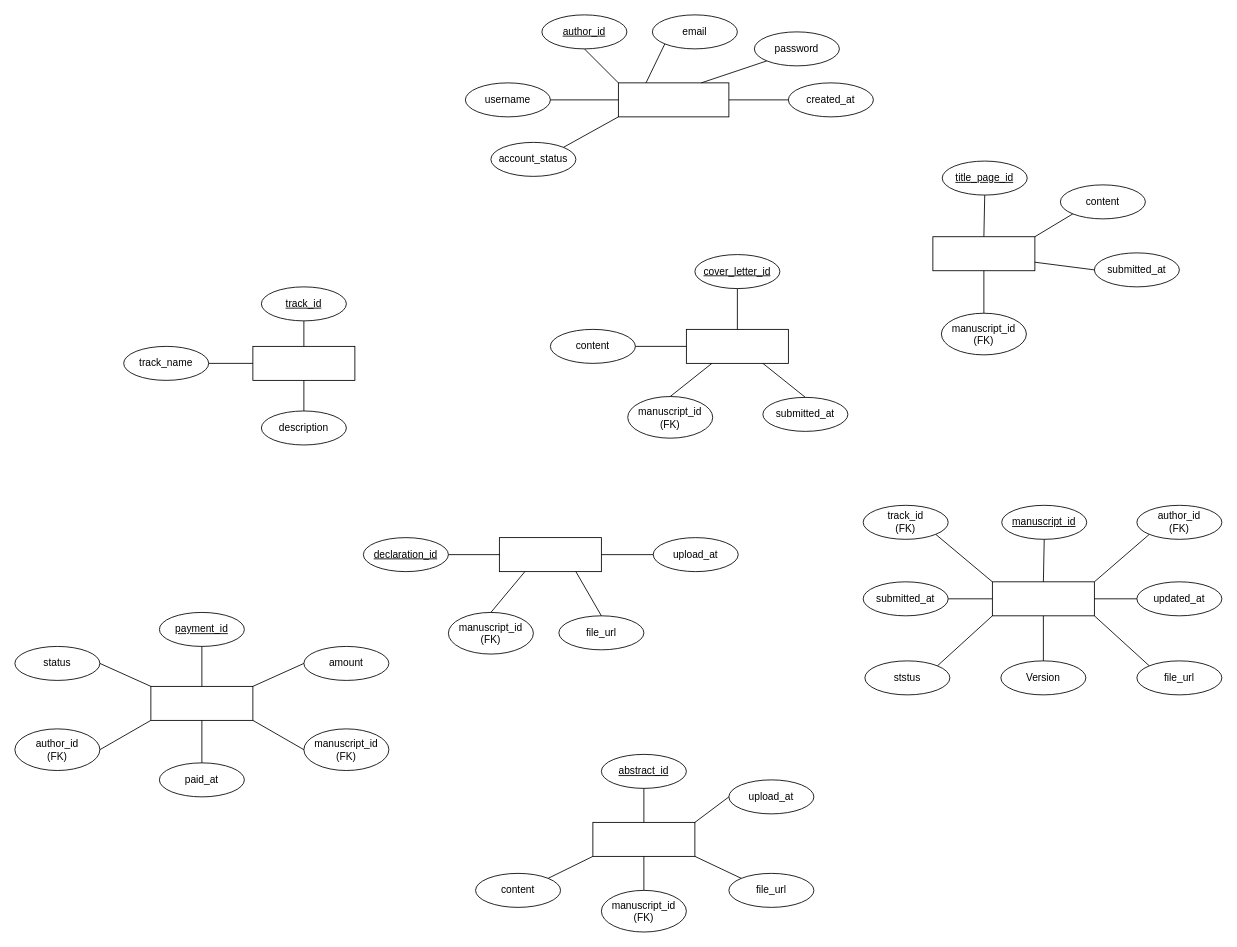
The diagram is 1237 pixels wide and 947 high, and some of its shapes have lost their labels. Here are the shapes that lost their labels. From the top down, the centre of each, then its label:
At (673,99): "Corresponding Author".
At (983,253): "Title Page".
At (303,363): "Research Track".
At (737,346): "Cover Letter".
At (550,554): "Author Declaration".
At (1043,598): "Manuscript".
At (201,703): "Payment".
At (643,839): "Abstract".
